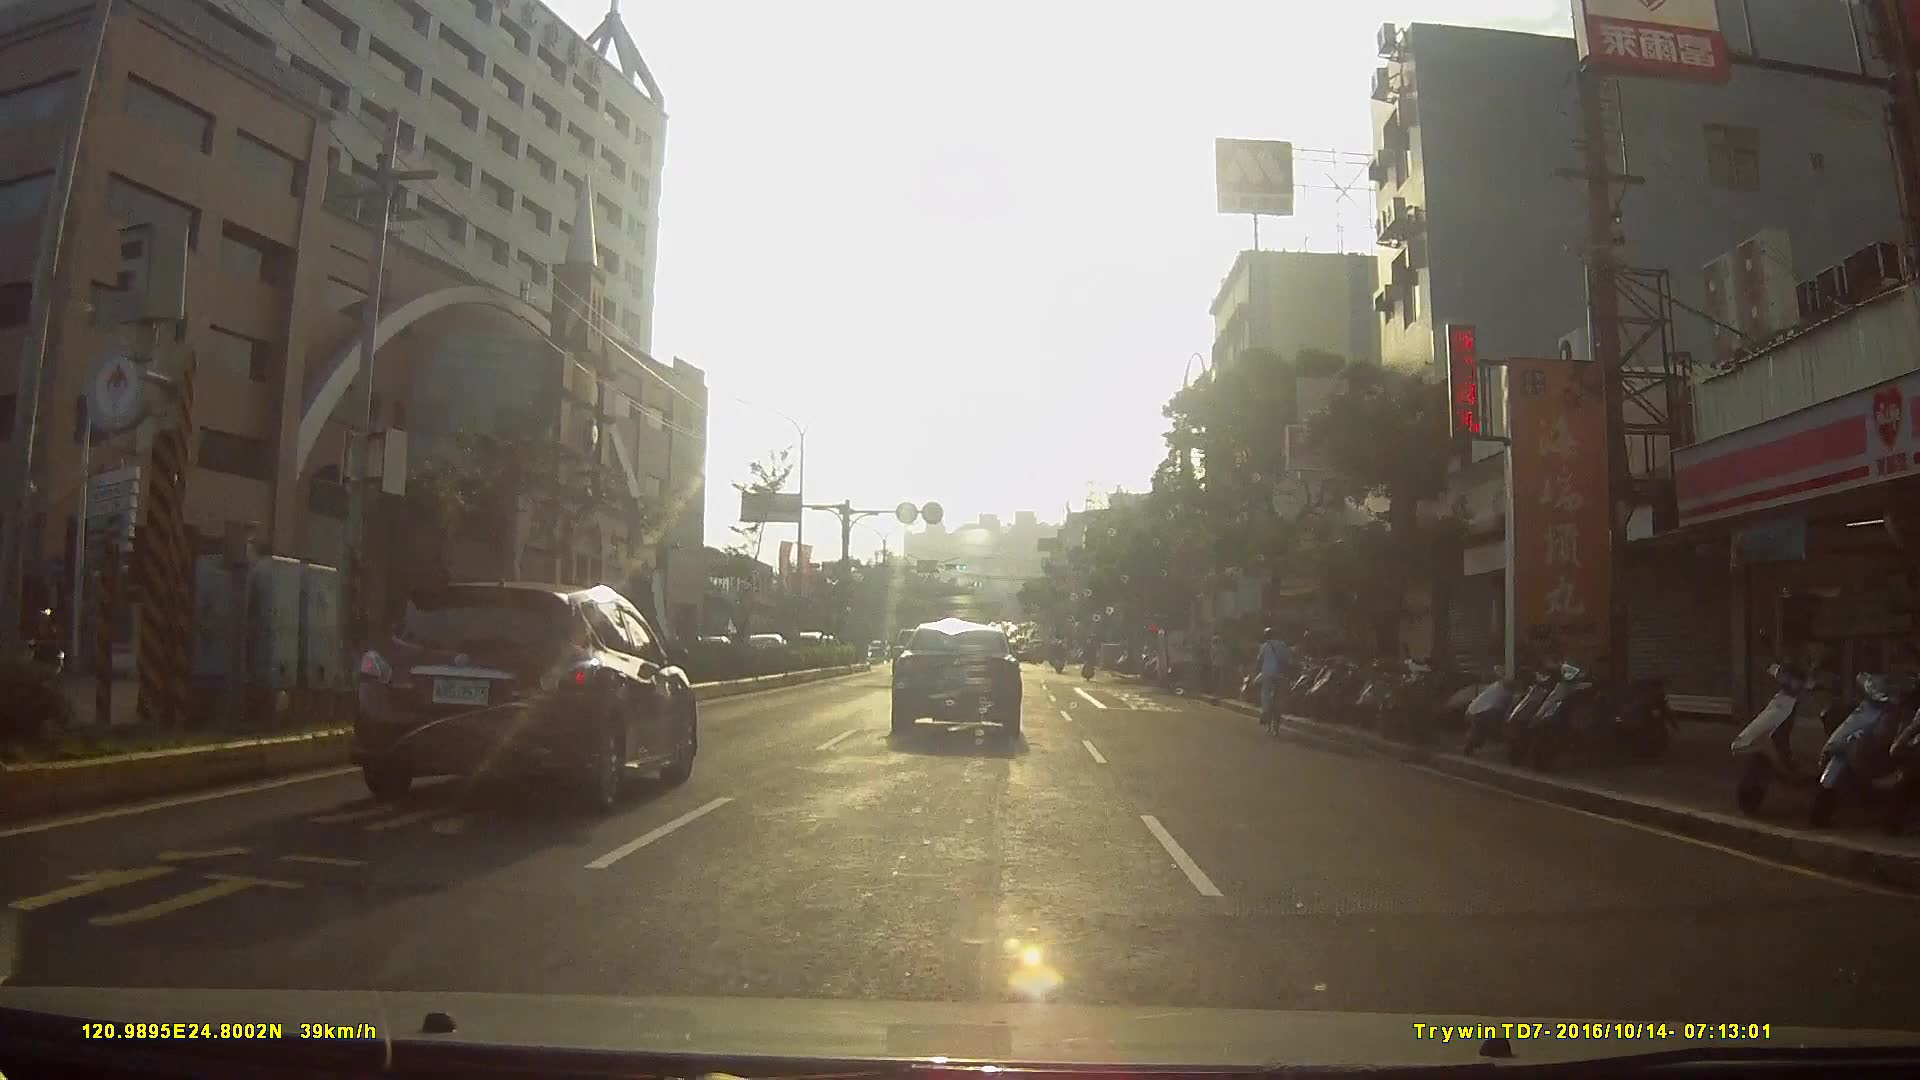rider: (1252, 627, 1295, 738)
vehicle: (349, 575, 711, 814), (886, 614, 1037, 747), (1153, 621, 1220, 687), (763, 607, 822, 662)
